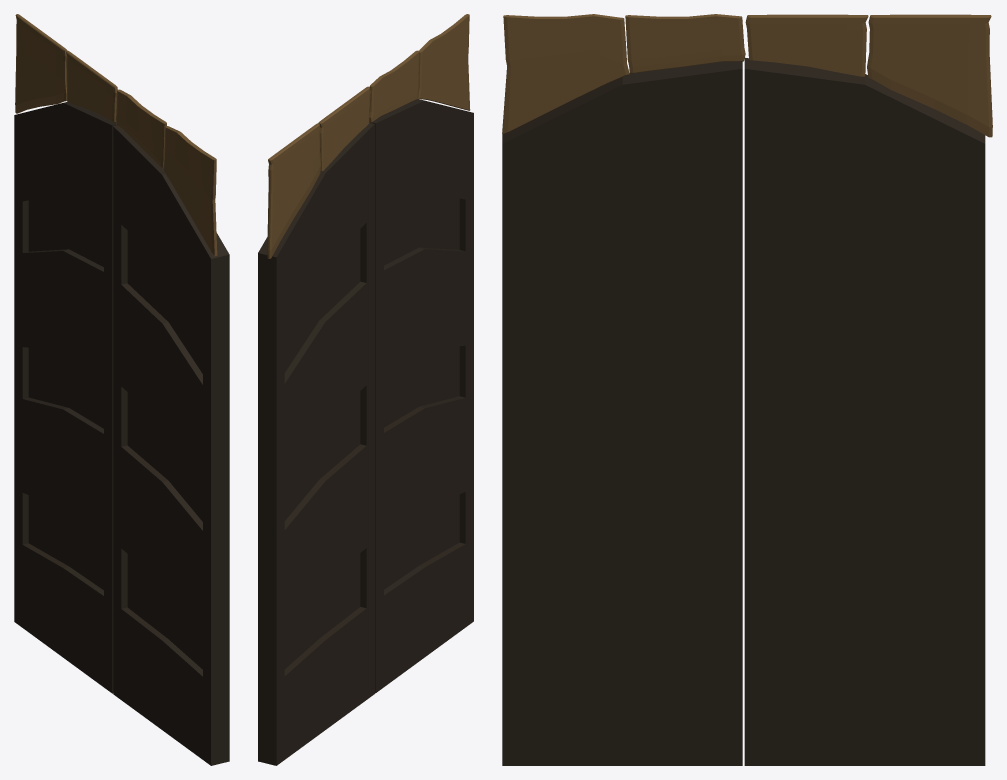
Rendered from Pistola.fbx.
3 renders of one model, left to right at view 1: azimuth 30°, elevation 25°; view 2: azimuth 150°, elevation 25°; view 3: azimuth 270°, elevation 25°, orthographic. The views are drawn at different scales.
Parts seen in each view (by area): view 1: Puerta; view 2: Puerta; view 3: Puerta.
Part boxes in pixels (x1,y1,x2,y2): Puerta: [14, 14, 229, 765]; Puerta: [258, 14, 473, 765]; Puerta: [502, 14, 992, 765].
Size of the model in its own units: 0.12 by 3.76 by 2.25.
